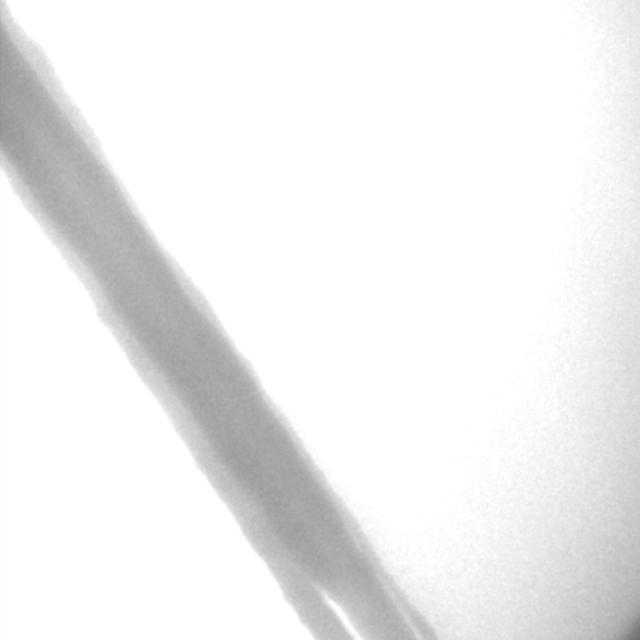unfused: (313, 554, 421, 637)
